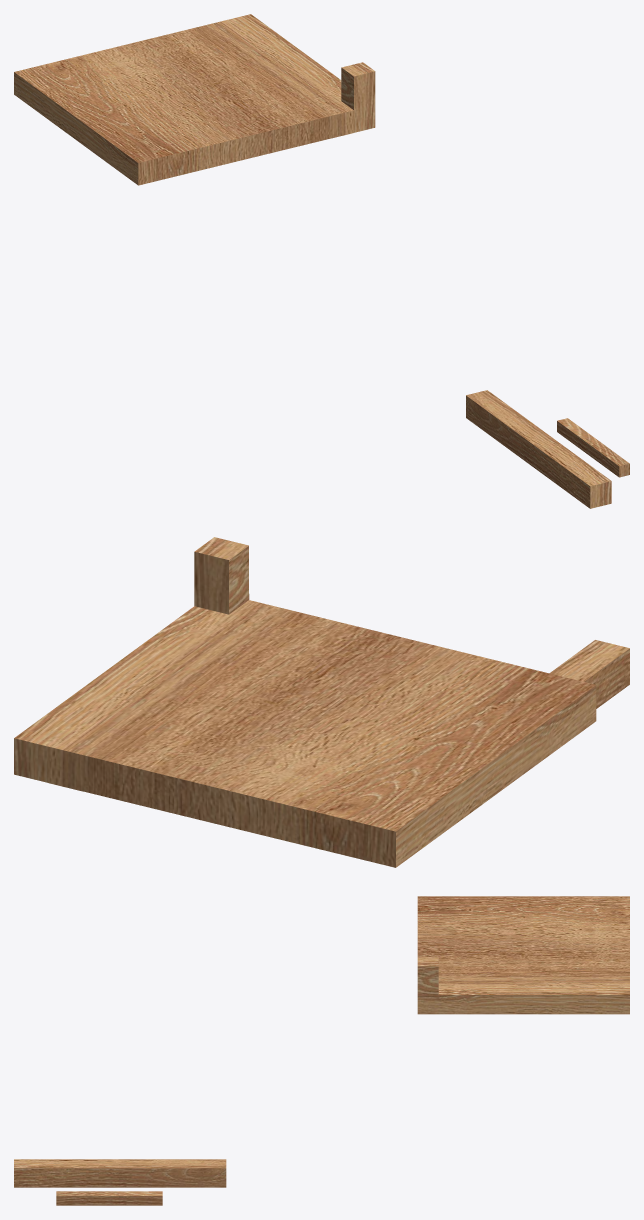
File: 37821_gpt-only.glb
3 renders of one model, top to bottom at view 1: azimuth 30°, elevation 25°; view 2: azimuth 150°, elevation 25°; view 3: azimuth 270°, elevation 25°, orthographic. The views are drawn at different scales.
Visible parts, largest first — view 1: ParentEmpty; view 2: ParentEmpty; view 3: ParentEmpty.
Part boxes in pixels (x1,y1,x2,y2): ParentEmpty: (14, 14, 629, 508); ParentEmpty: (14, 537, 629, 867); ParentEmpty: (14, 896, 629, 1205).
Bounding box in the file's own units: 0.4483 × 0.3966 × 1.
1 material, 1 textured.
